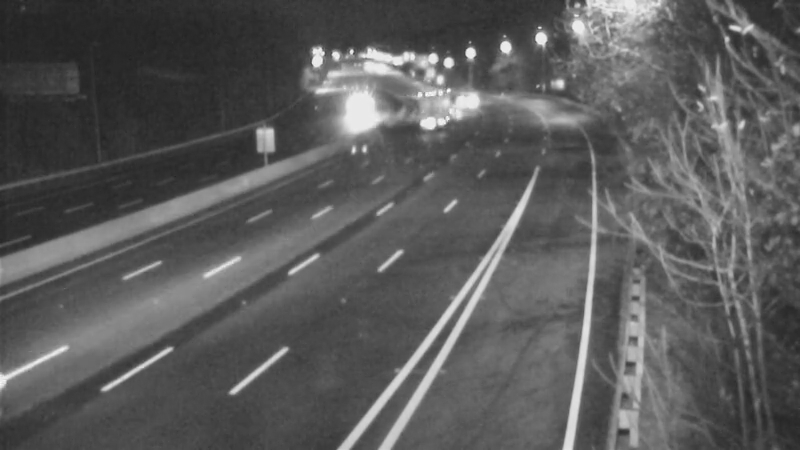vehicle: (445, 75, 495, 125), (410, 75, 460, 125), (333, 88, 383, 138)
